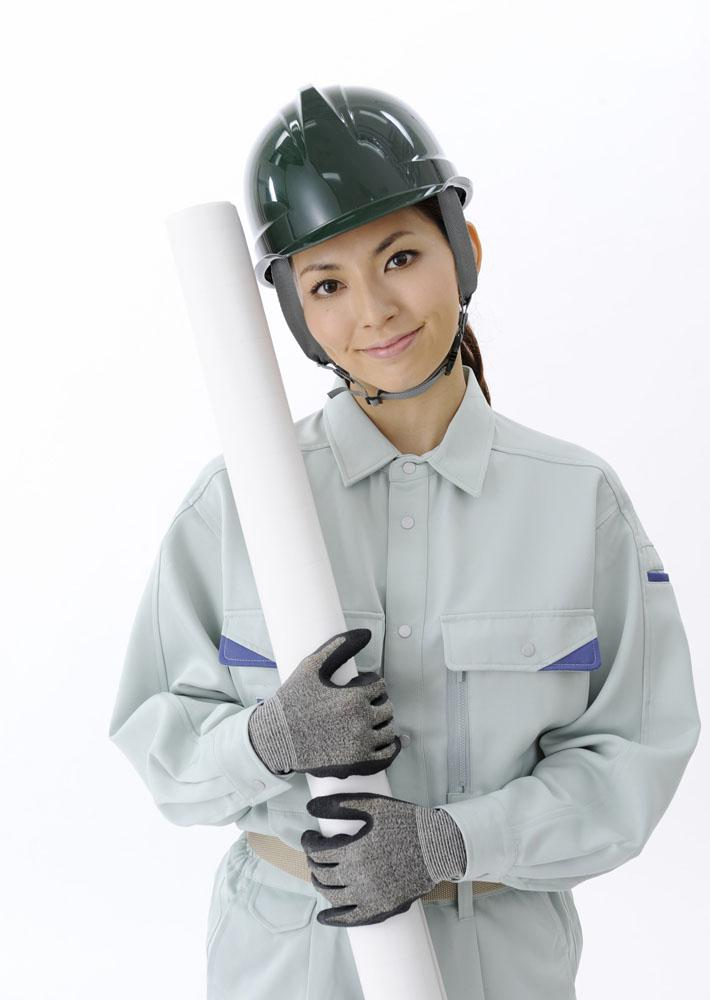helmet: (238, 81, 464, 247)
